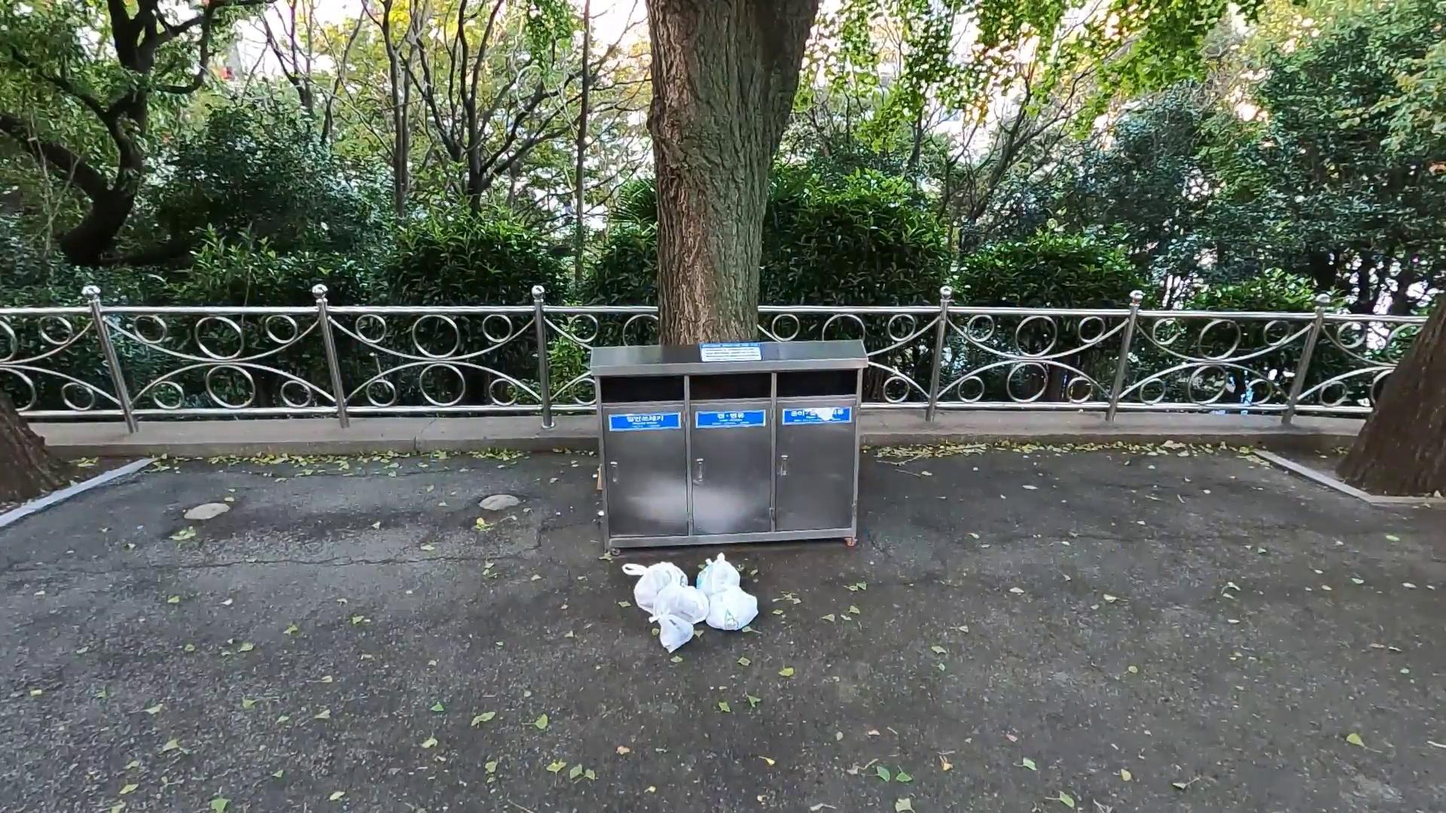trash: (623, 560, 691, 614), (652, 573, 710, 625), (701, 581, 759, 630), (694, 554, 743, 602), (651, 604, 694, 652)
